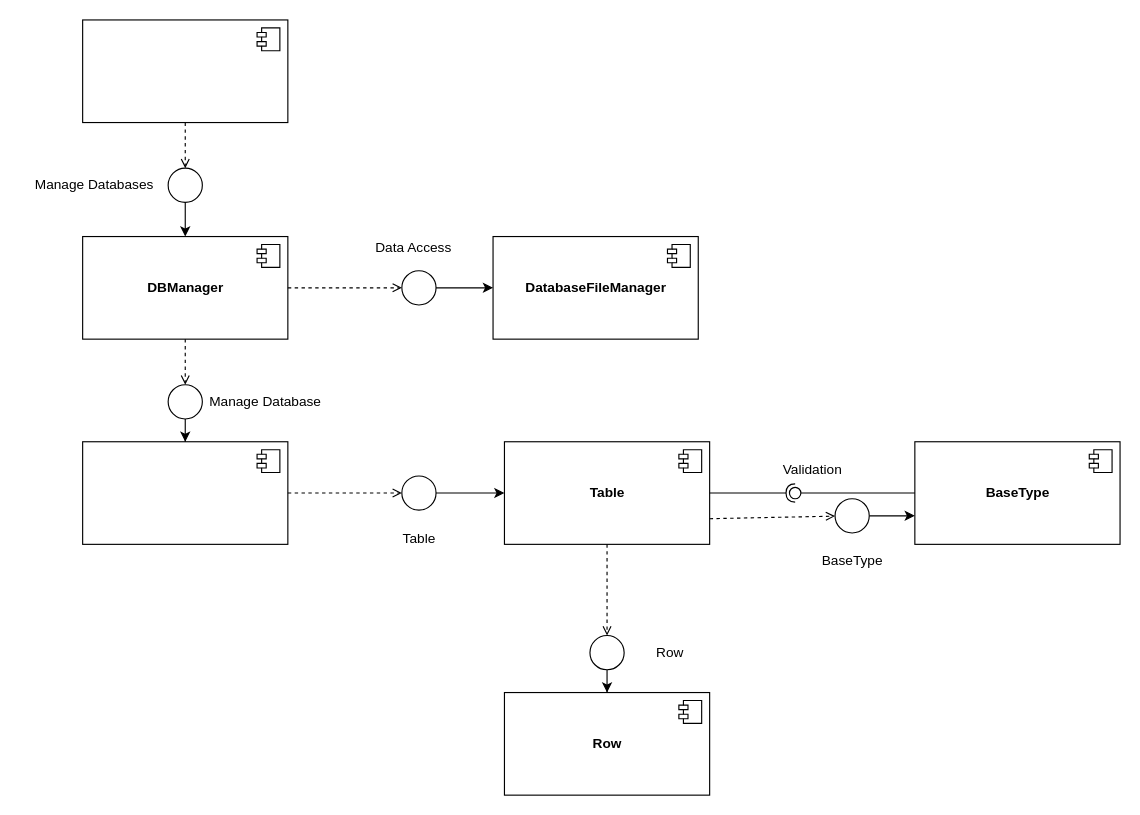
Image size: 1140x815. Some labels were removed from this diagram. The shapes that lost their labels are listed below. From the top down, each one's centre as x and y in pixels, then its label:
point (185, 71): «UI» DBMS Application
point (185, 492): Database
